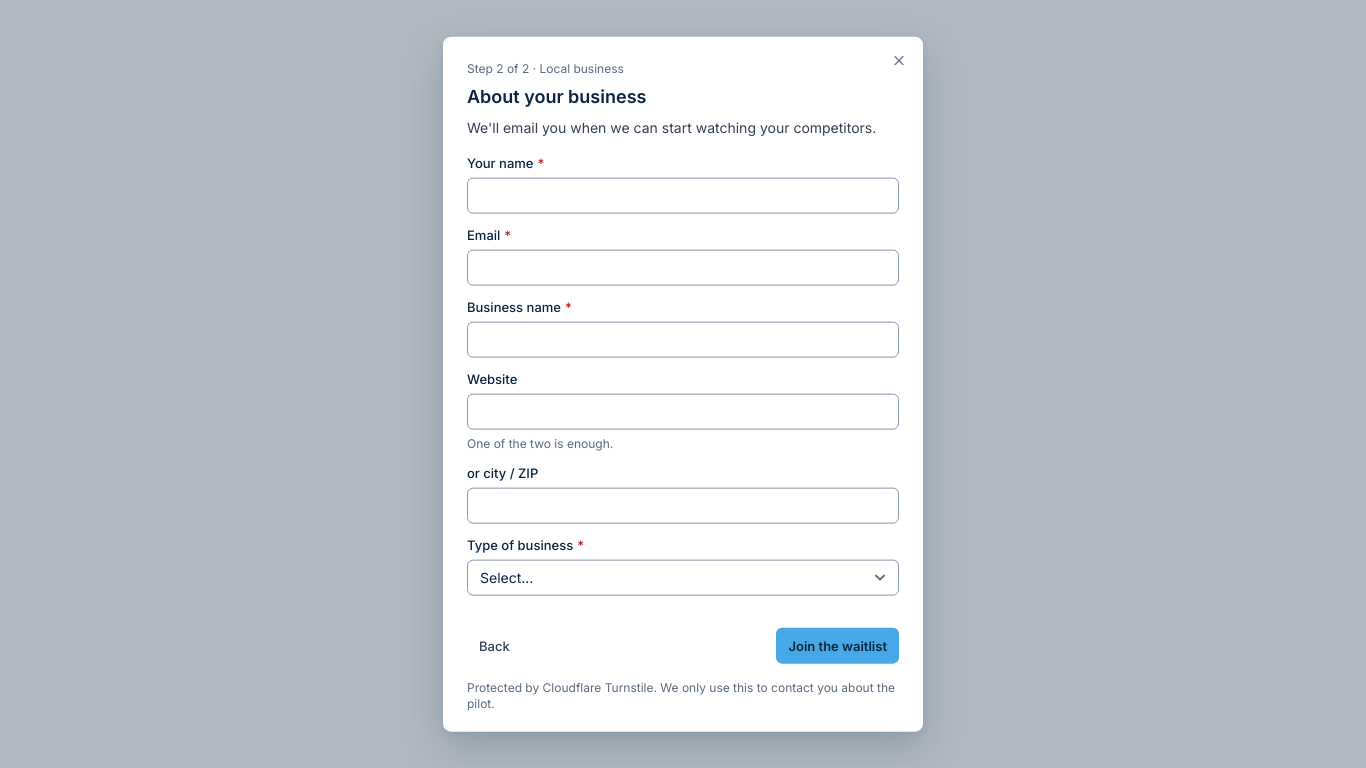
Test: join dialog › submit (Task 8) › submit blocked until a token when a key is set
Type "Sam Roe" into the field labelled "Your name *" at (683, 195), box [467,177,899,213]
Type "sam@roe.test" into the field labelled "Email *" at (683, 267), box [467,249,899,285]
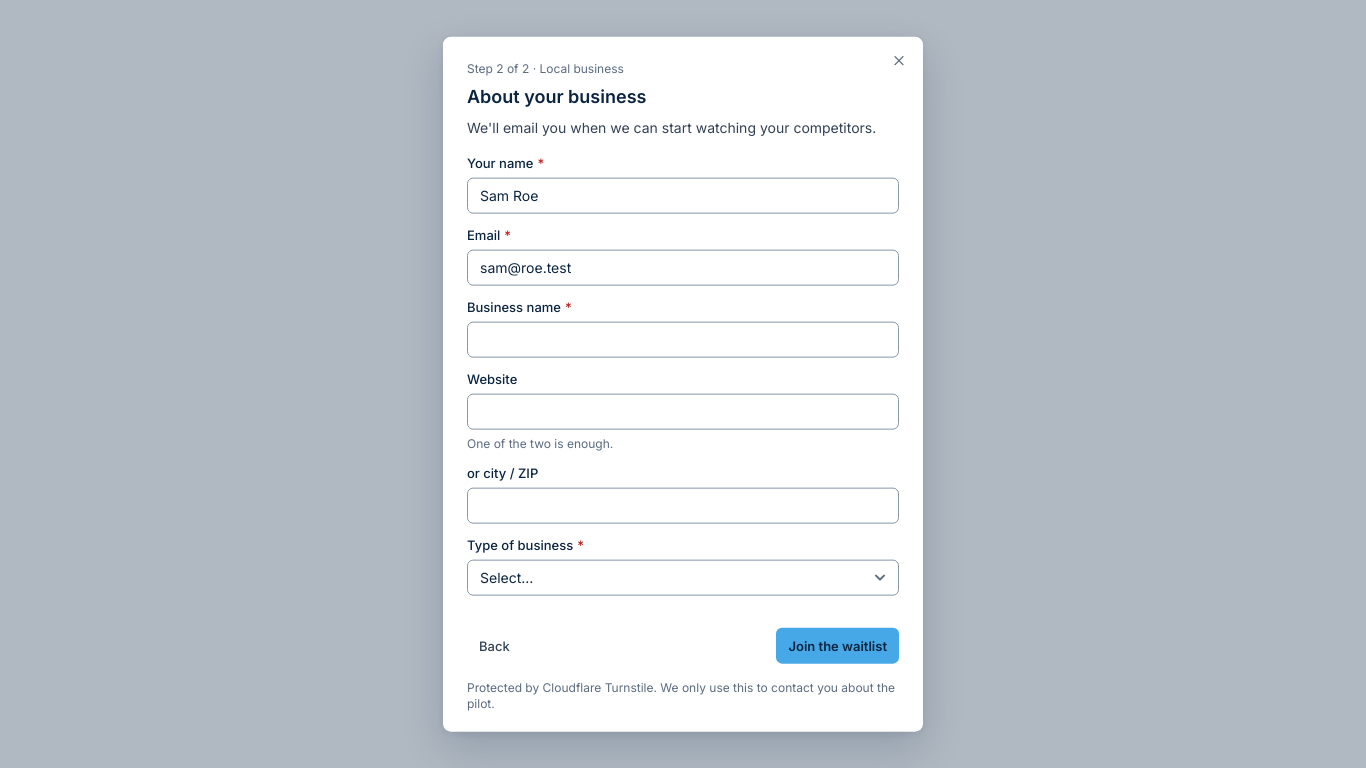
Type "Roe Heating" into the field labelled "Business name *" at (683, 339), box [467,321,899,357]
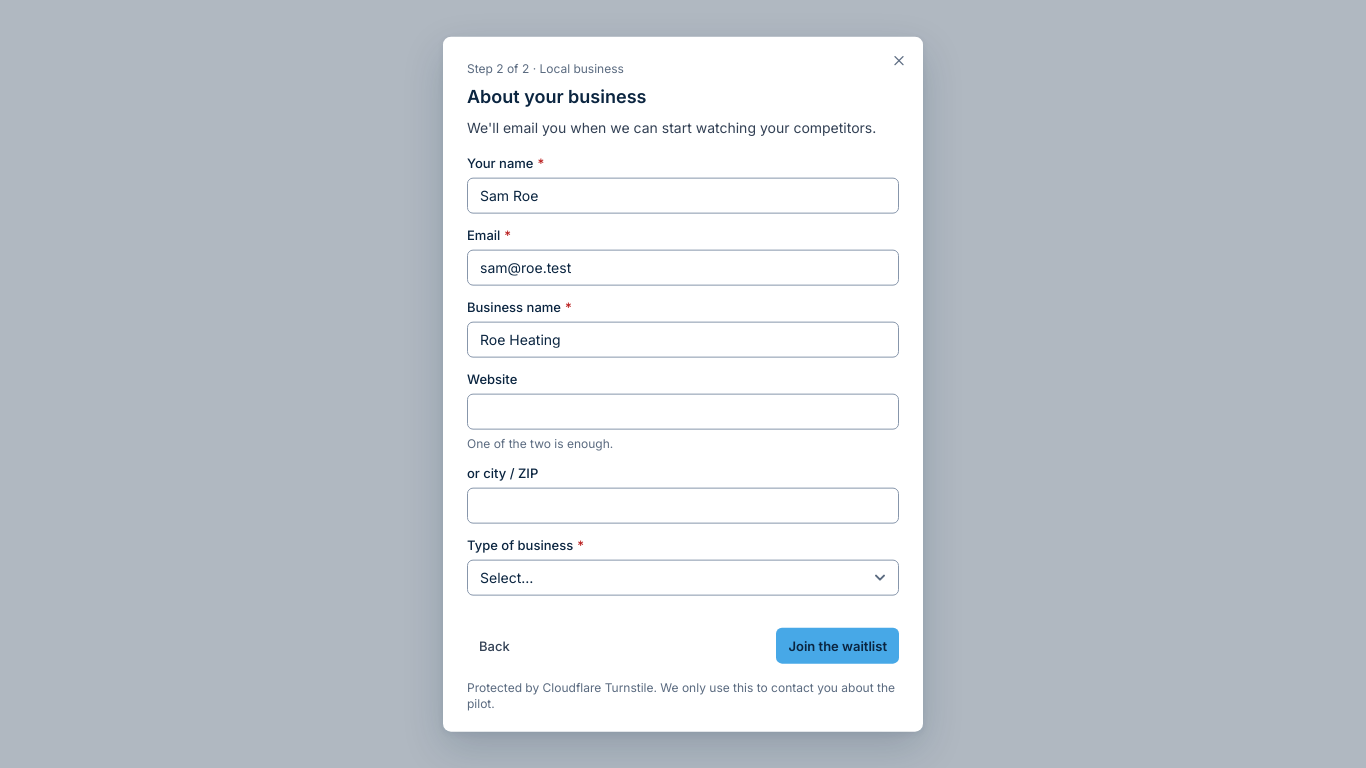
Type "Austin" into the field labelled "or city / ZIP" at (683, 505), box [467,487,899,523]
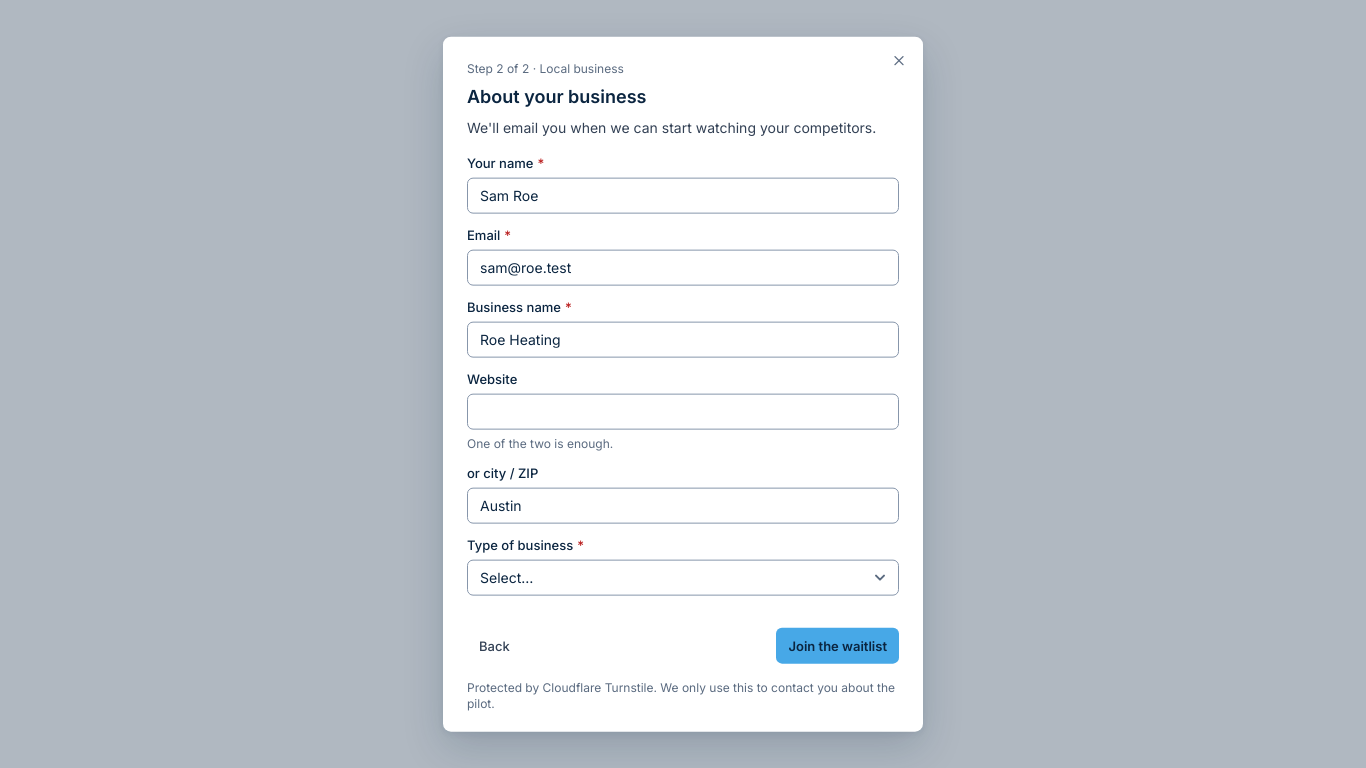
Select "Dental practices" in the dropdown labelled "Type of business *" at (683, 577), box [467,559,899,595]
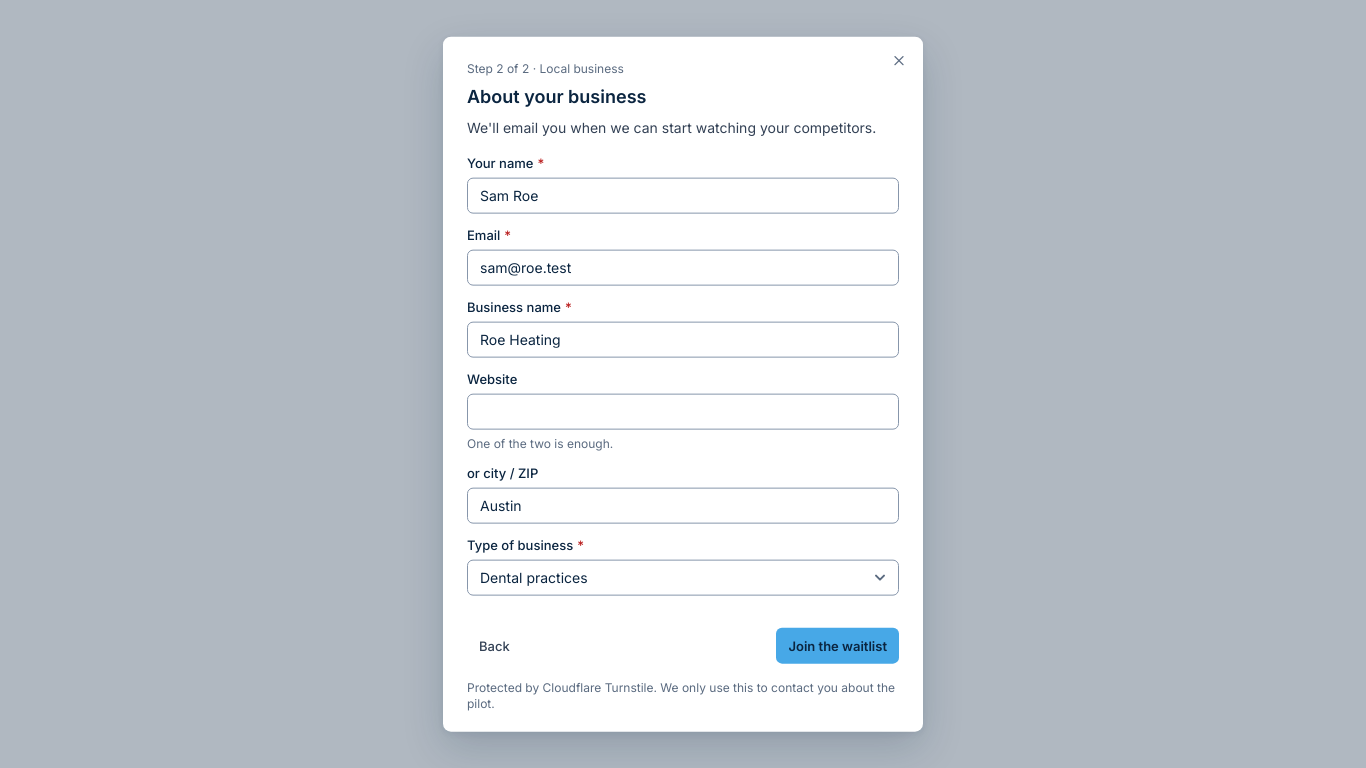
Click the button "Join the waitlist" at (838, 645), box [776,627,899,663]
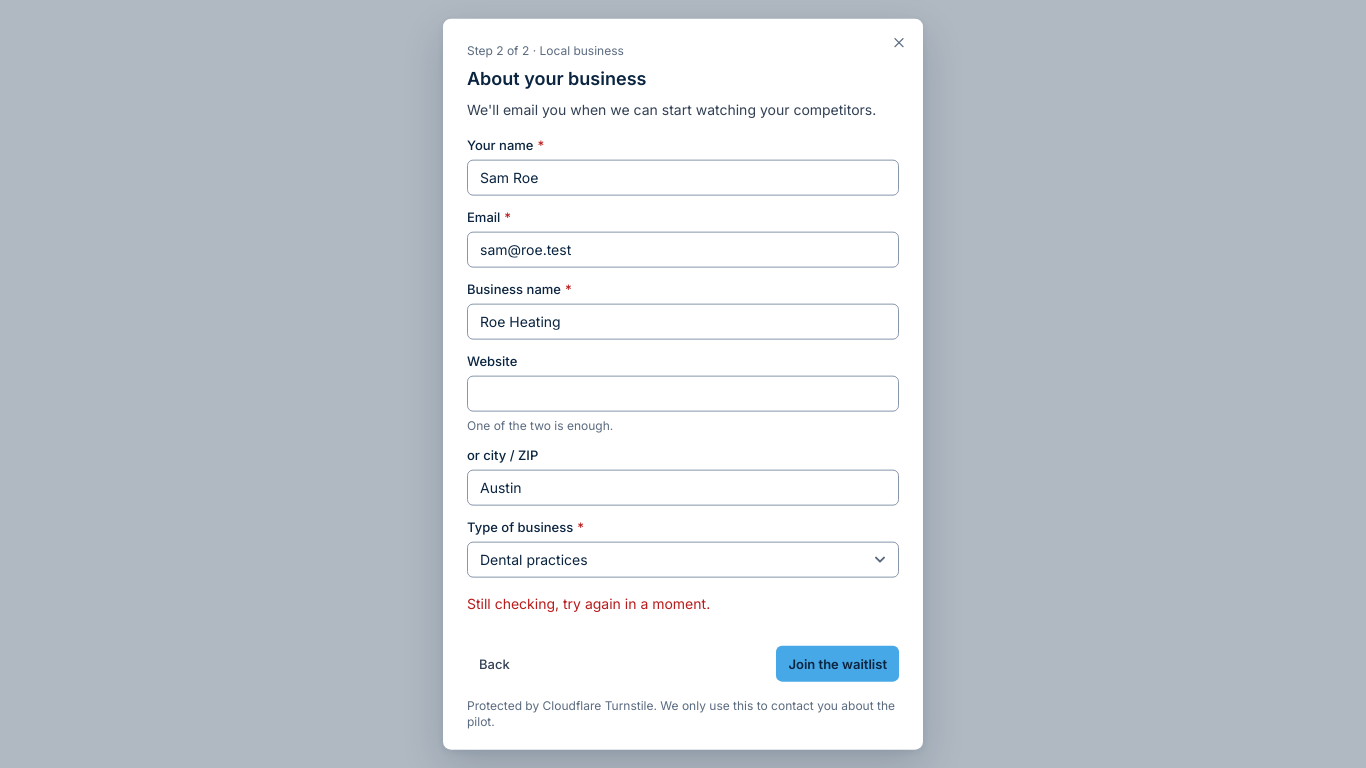
Result: the message reads "Still checking, try again in a moment." at [467,594,710,611]
Click the button "Join the waitlist" at (838, 663), box [776,645,899,681]
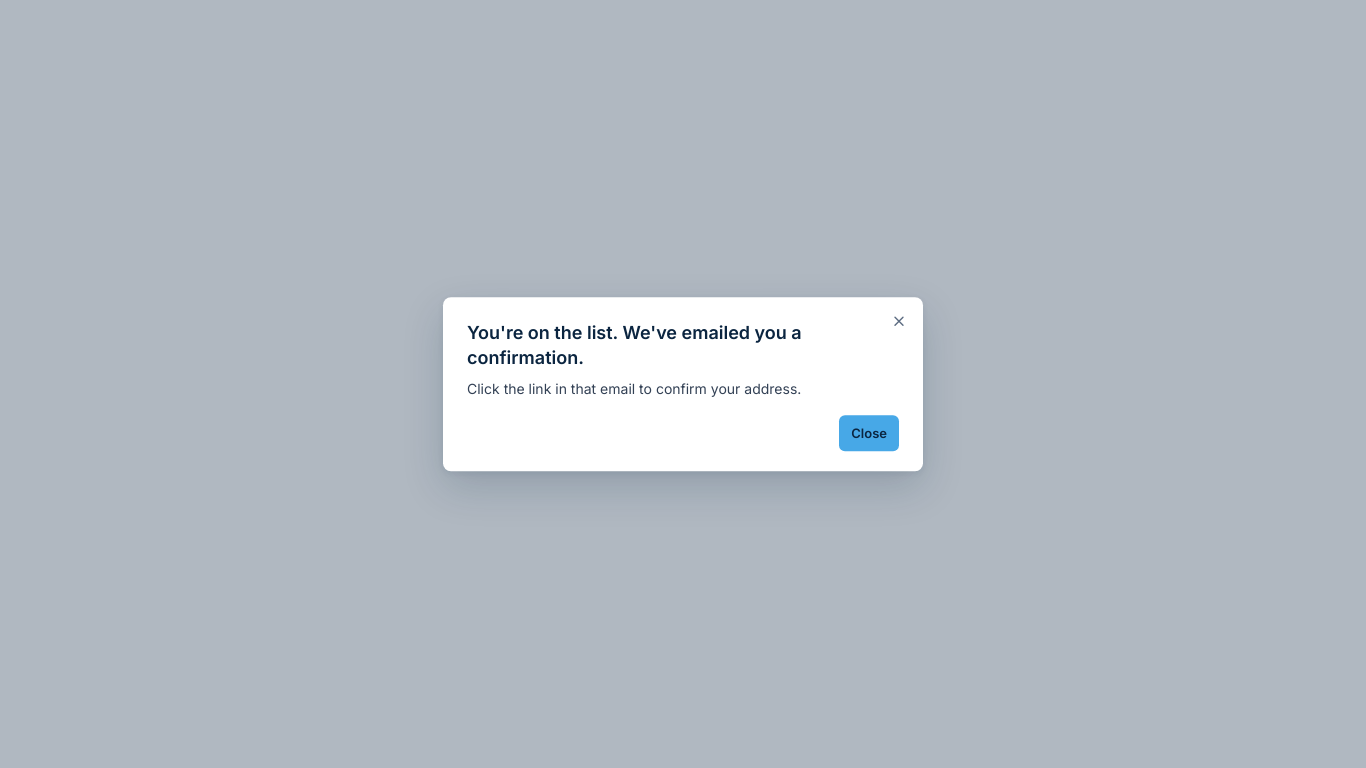
Result: the heading "You're on the list. We've emailed you a confirmation." is shown at [467,322,802,368]
